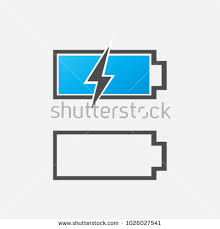charging sign: (30, 30, 202, 114)
